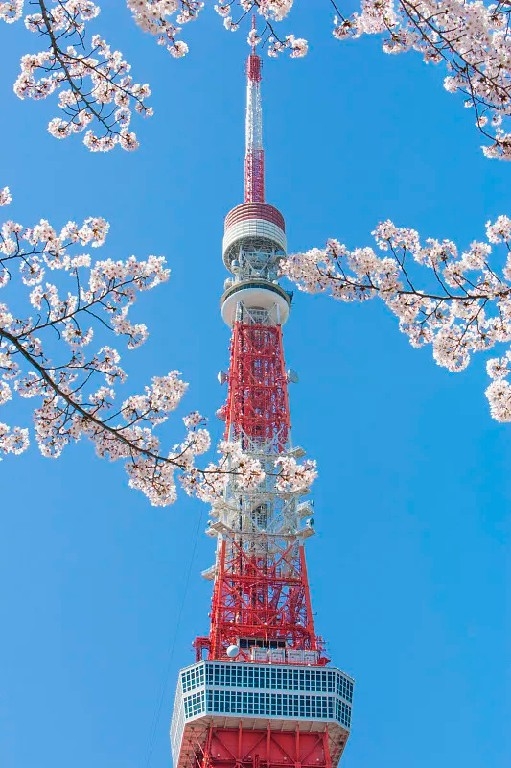Tokyo: (168, 9, 359, 767)
